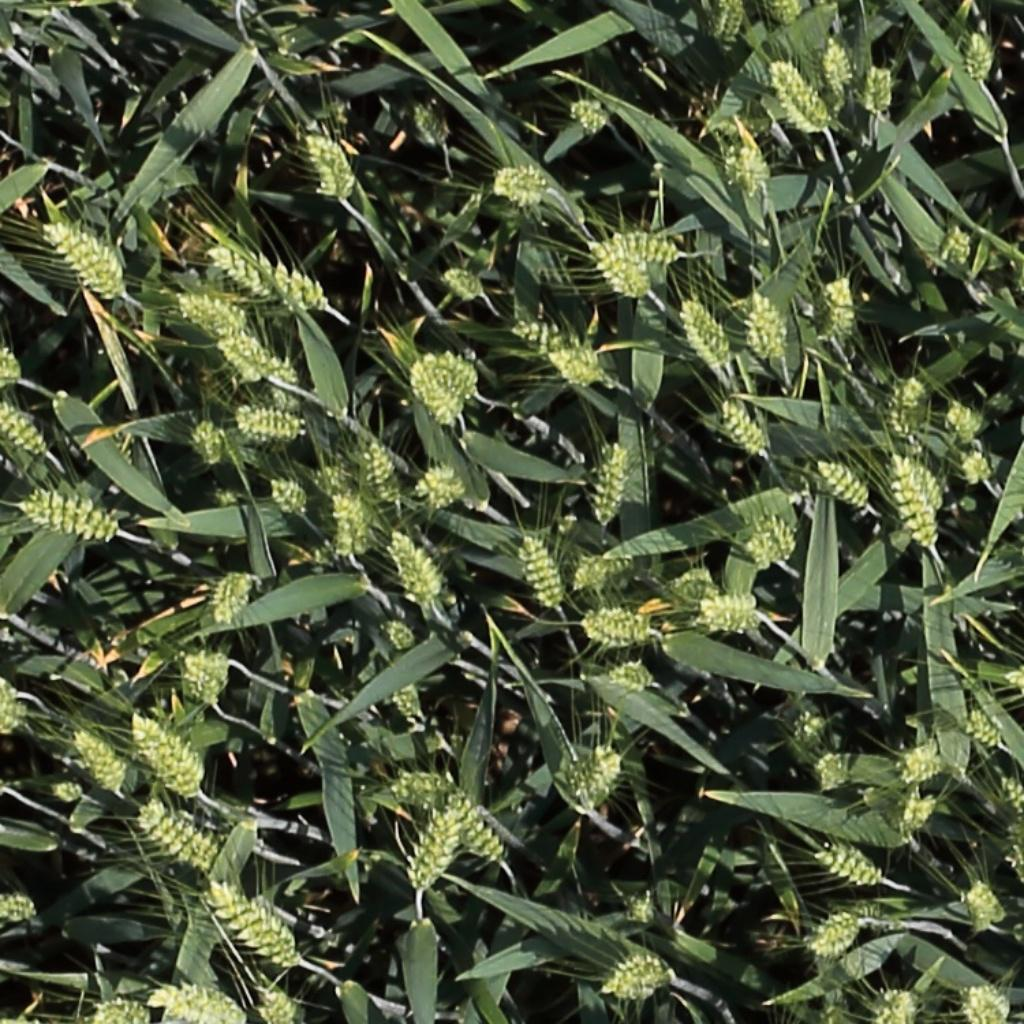0-0: (194, 236, 333, 310), (207, 883, 297, 962), (435, 772, 509, 868), (42, 218, 125, 296), (129, 711, 203, 798), (139, 805, 219, 877), (890, 447, 940, 552), (770, 57, 835, 135), (408, 804, 460, 899), (386, 525, 442, 613), (383, 763, 483, 812), (679, 294, 735, 372), (409, 356, 465, 430), (899, 451, 947, 536), (69, 726, 126, 797), (301, 124, 354, 199), (588, 237, 651, 300), (749, 285, 798, 365), (224, 395, 307, 442), (208, 330, 283, 381), (521, 531, 566, 615), (510, 319, 600, 360), (573, 744, 622, 819), (595, 435, 632, 532), (718, 394, 774, 458), (21, 499, 113, 536), (363, 434, 405, 512), (574, 545, 633, 600), (816, 847, 887, 888), (816, 458, 873, 509), (154, 988, 241, 1021), (208, 570, 256, 629), (0, 398, 47, 458), (177, 292, 247, 331), (421, 352, 480, 397), (893, 735, 945, 786), (182, 652, 226, 712), (737, 128, 772, 200), (894, 371, 928, 445), (409, 94, 453, 151), (756, 507, 798, 566), (612, 887, 668, 930), (988, 650, 1024, 716), (898, 788, 941, 843), (982, 771, 1024, 826), (790, 702, 837, 751), (828, 267, 857, 345), (604, 961, 670, 995), (965, 879, 1006, 933), (331, 487, 359, 566), (943, 391, 980, 450), (824, 31, 853, 105), (601, 660, 659, 695), (962, 709, 1006, 752), (550, 350, 604, 385), (396, 672, 430, 725), (943, 217, 973, 277), (192, 413, 222, 472), (997, 830, 1024, 894), (811, 920, 861, 954), (966, 23, 992, 87), (866, 58, 892, 122), (962, 985, 1006, 1022), (714, 0, 746, 50), (267, 477, 308, 516), (816, 750, 851, 795), (258, 984, 297, 1024), (607, 238, 681, 259), (443, 266, 487, 300), (380, 617, 419, 655), (879, 985, 917, 1024), (570, 96, 611, 132), (494, 173, 548, 199), (962, 445, 993, 490), (701, 607, 760, 629), (94, 1003, 148, 1022), (772, 0, 804, 32), (0, 685, 20, 729), (0, 345, 20, 382), (0, 901, 36, 921), (0, 677, 15, 708)
